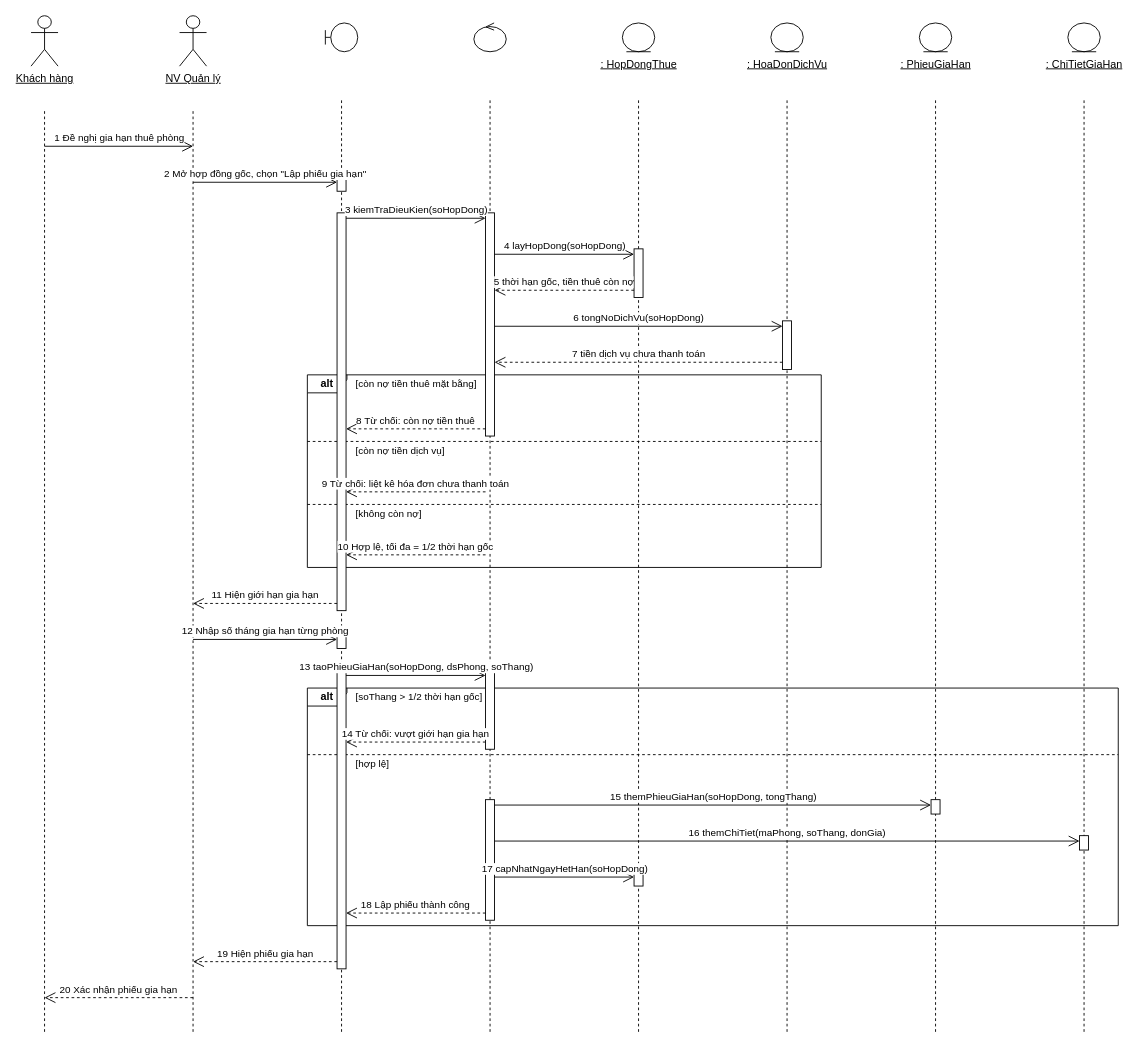
Image size: 1138x1050. Some labels were removed from this diagram. The shapes that lost their labels are listed below. From the top down, each one's centre as x and y in pixels, then its label:
At point 341,37: ": FrmGiaHan".
At point 489,37: ": GiaHanService".
